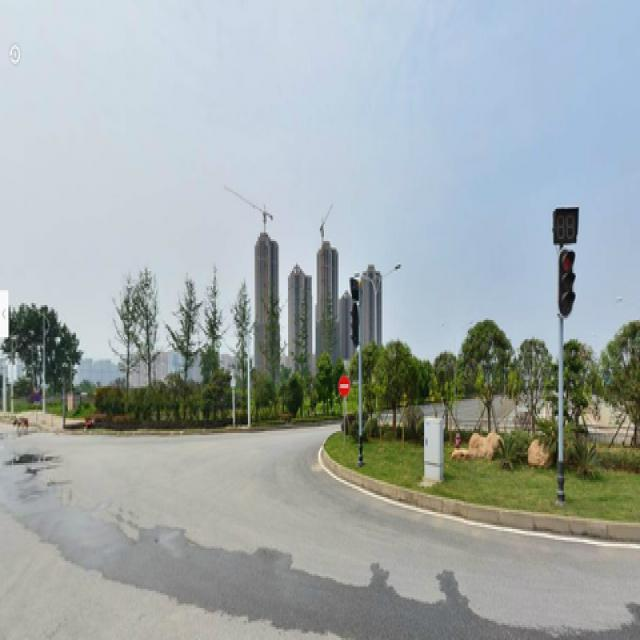gink: (160, 286, 196, 384), (113, 286, 136, 407), (236, 279, 255, 382), (263, 296, 284, 378), (209, 284, 228, 373)
